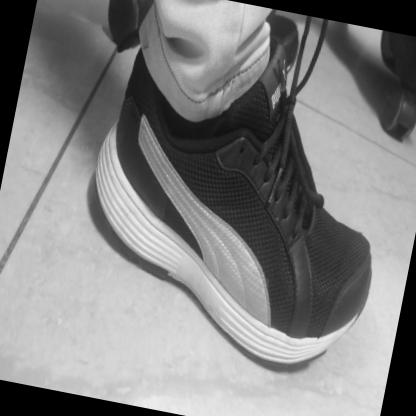ankle: (178, 121, 185, 134)
heel: (119, 120, 125, 132)
pinky: (315, 315, 321, 325)
right_foot: (67, 30, 410, 378)
toe: (358, 237, 362, 243)
